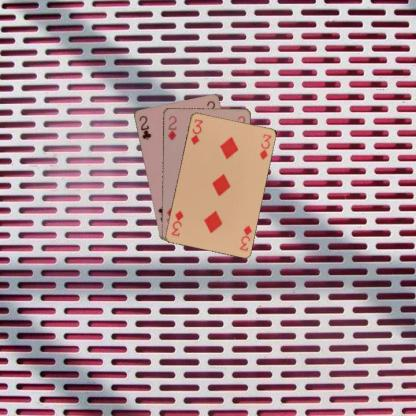2c: (136, 113, 152, 141)
2d: (165, 113, 178, 142)
3d: (188, 116, 204, 146), (237, 222, 253, 252)
